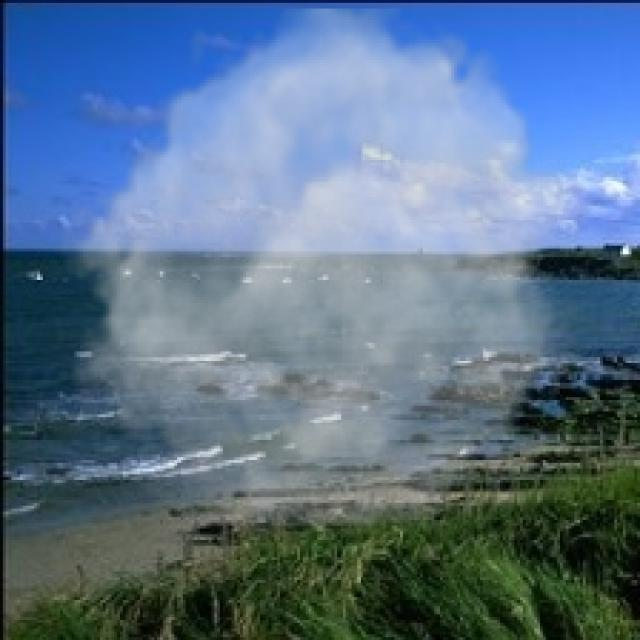Smoke: (54, 8, 592, 526)
